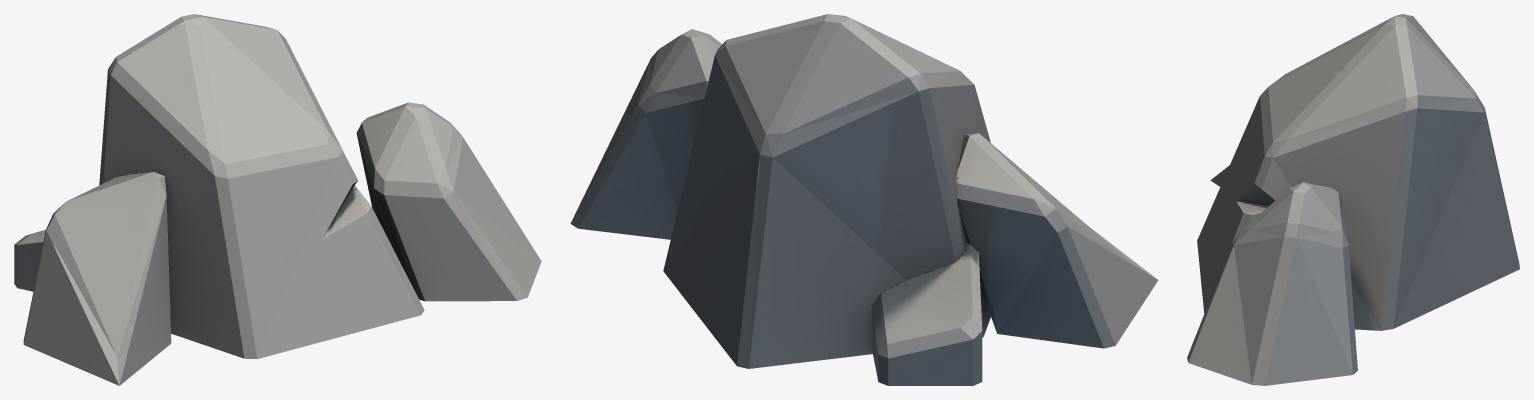
Rendered from pierre-2.gltf.
3 renders of one model, left to right at view 1: azimuth 30°, elevation 25°; view 2: azimuth 150°, elevation 25°; view 3: azimuth 270°, elevation 25°, orthographic. The views are drawn at different scales.
Visible parts, largest first — view 1: stone; view 2: stone; view 3: stone.
Boxes of the visible parts, x1=… form: stone: x1=14, y1=14, x2=541, y2=385; stone: x1=570, y1=14, x2=1158, y2=385; stone: x1=1187, y1=14, x2=1519, y2=385.
Bounding box in the file's own units: 2.01 × 1.02 × 1.29.
Materials: 1 (1 with a texture image).
